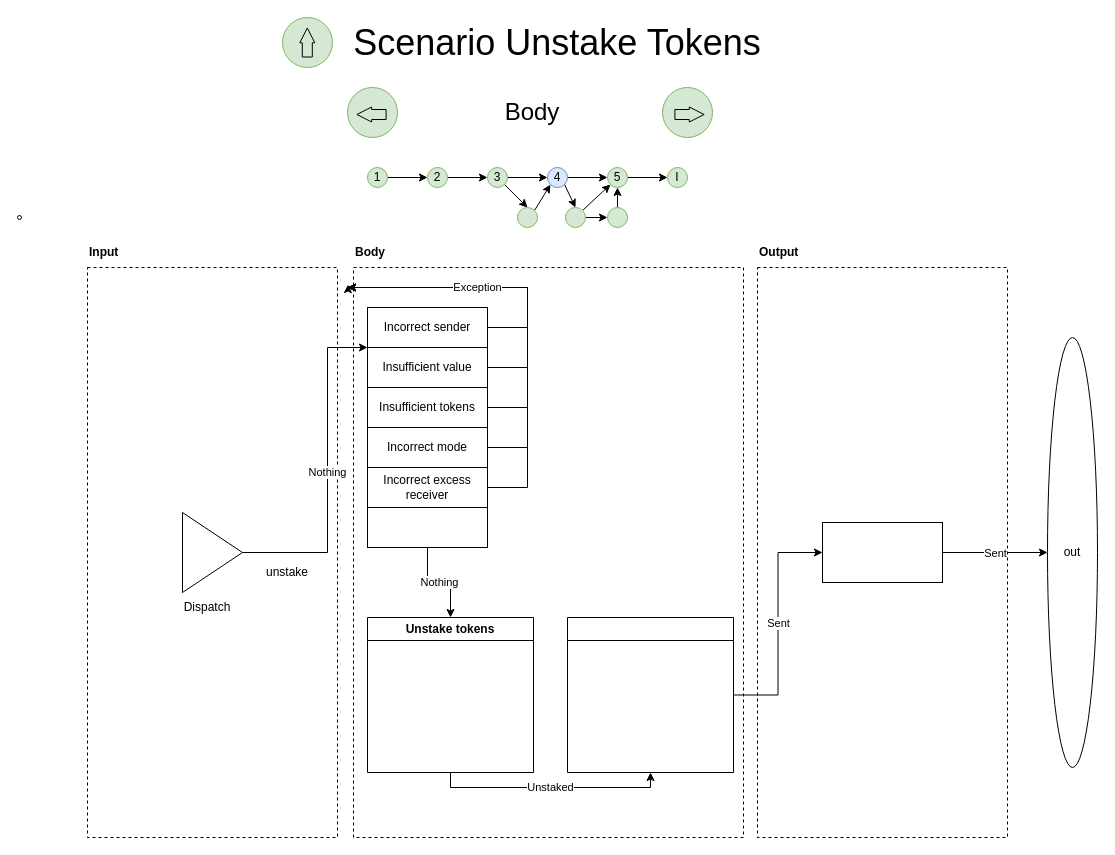
Image size: 1115x855. Some labels were removed from this diagram. Each missing label, with the centre of its shape:
autotest: point 212,552
Otherwise: point 427,527
Reserve tokens: point 650,694
S1: point 527,217
S2: point 617,217
T1: point 575,217
Tokens unstaked: point 882,552
